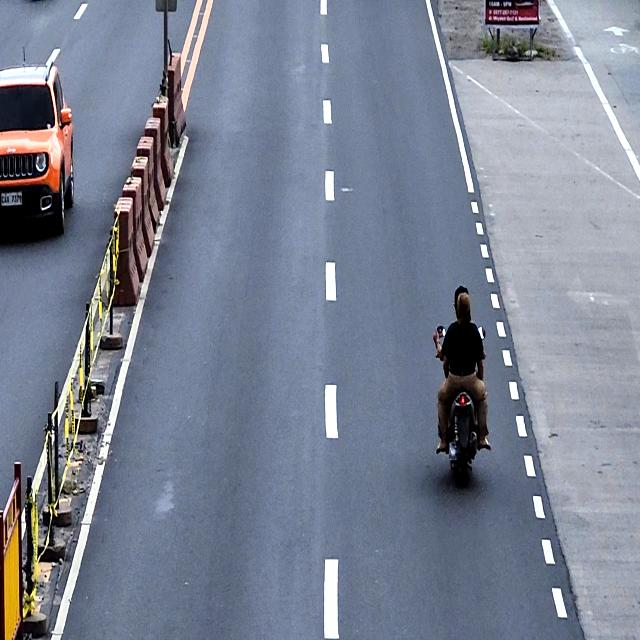Car: (0, 53, 74, 235)
License-Plate: (0, 190, 23, 207)
Motorcycle: (433, 323, 489, 487)
